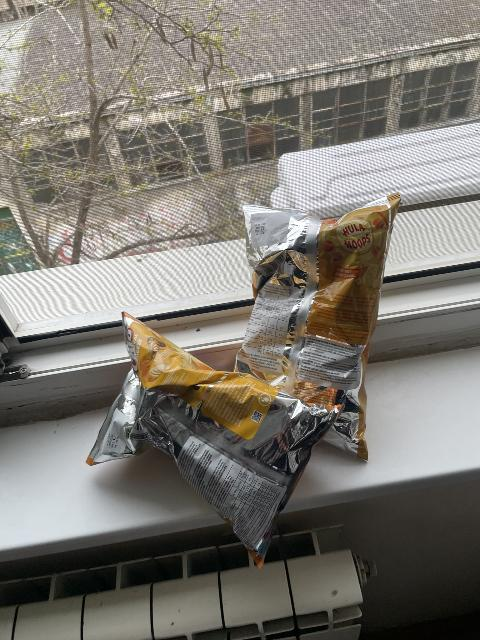Chio Cascaval 125g: (84, 311, 336, 568)
Chio Hula Hoops Cheese 70g: (234, 190, 401, 460)
